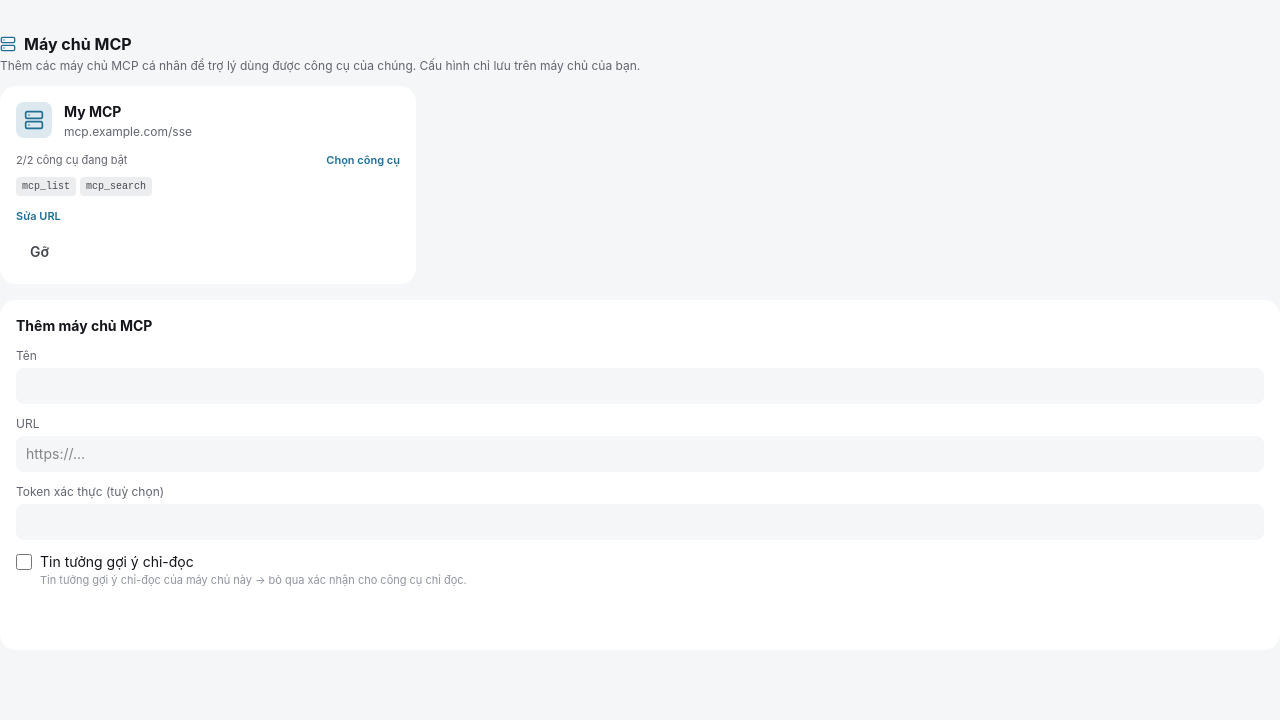
Scenario: the tool dialog shows each tool's description and can be filtered
Expected: the text "My MCP" is shown, [64,103,121,120]
Click the button "Chọn công cụ" at (363, 160), box [326,152,400,168]
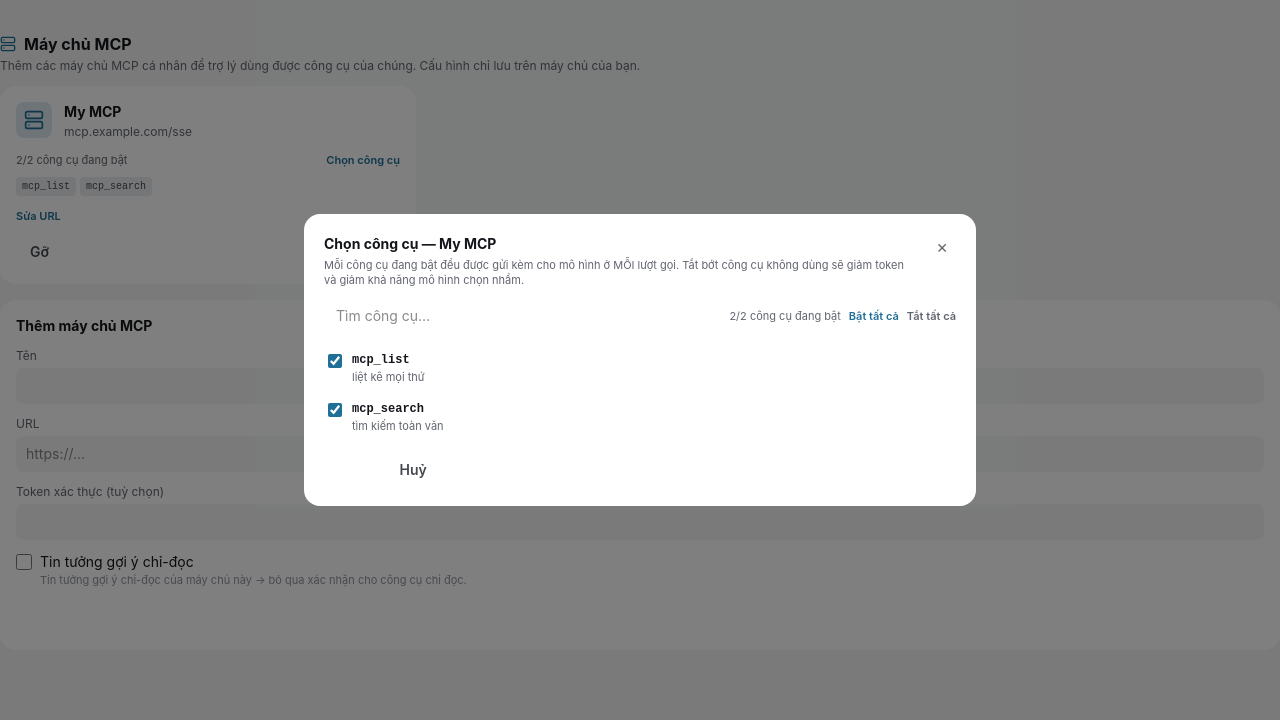
Now the dialog is shown, box [304,214,976,506]
Now the text "liệt kê mọi thứ" is shown, box [352,370,425,384]
Now the text "tìm kiếm toàn văn" is shown, box [352,419,444,433]
// Filtering matches the DESCRIPTION too, not only the tool name.
Type "toàn văn" into the search field labelled "Tìm công cụ…" at (523, 316), box [324,300,721,332]
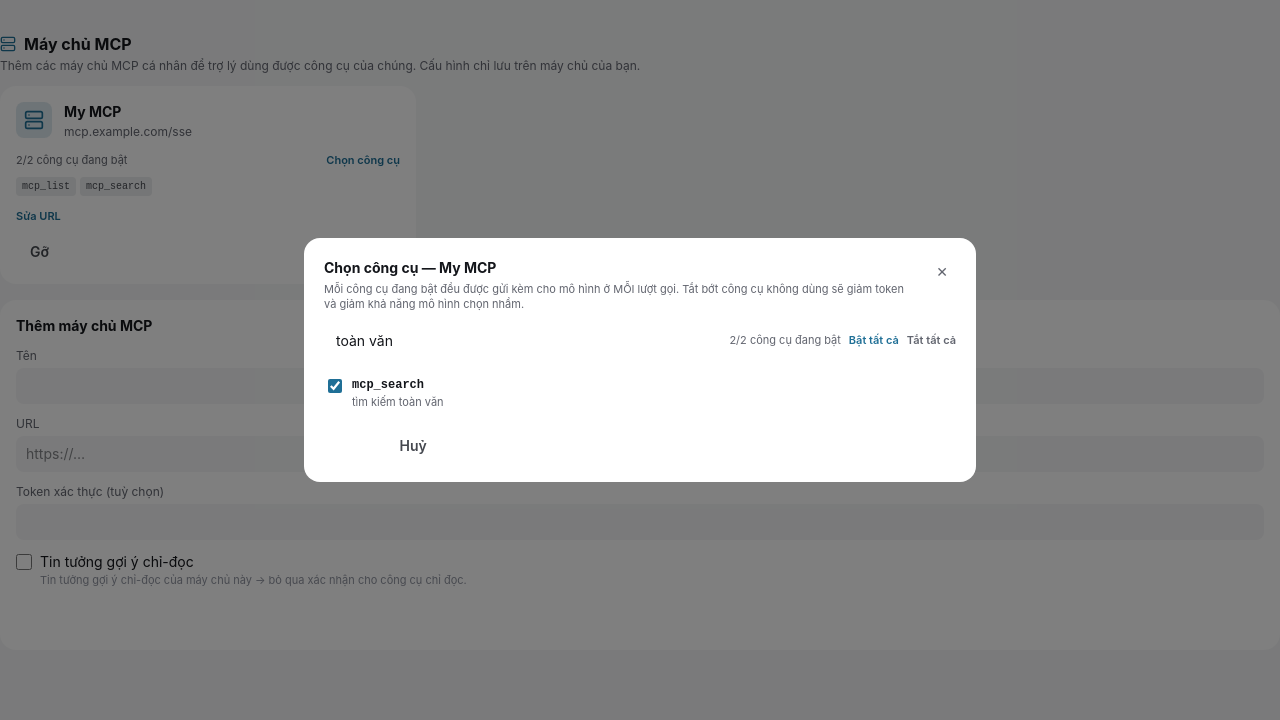
Now the text "tìm kiếm toàn văn" is shown, box [352,395,444,409]
Now the text "liệt kê mọi thứ" is gone
